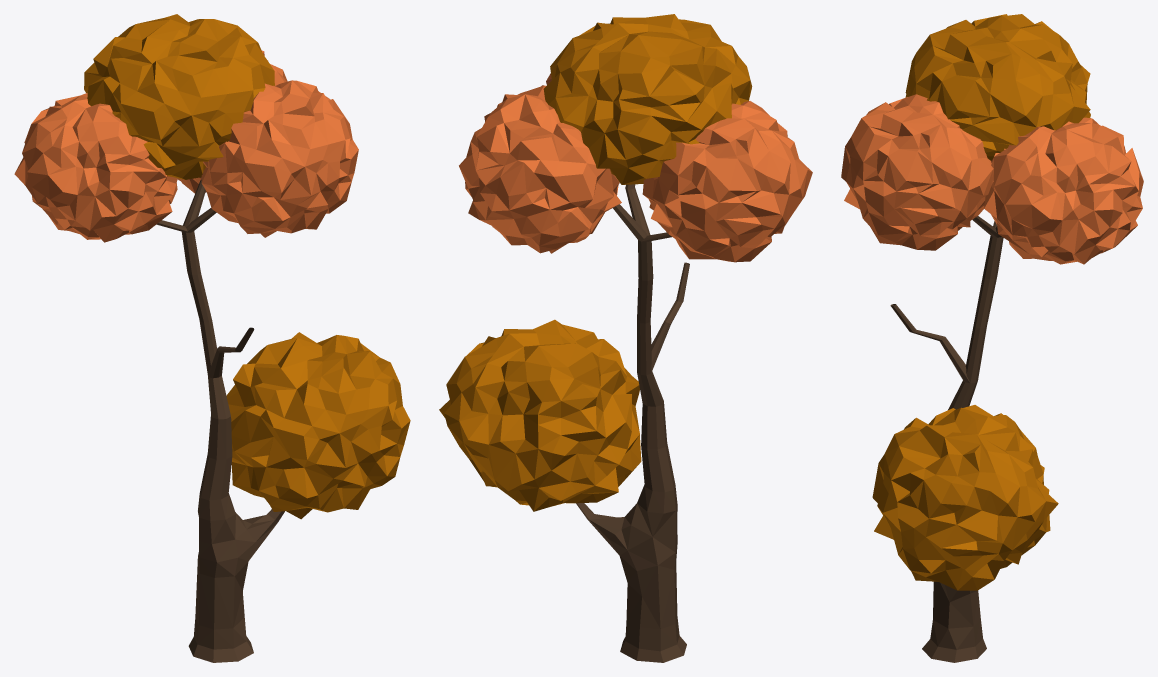
Rendered from fall tree 7.fbx.
The picture shows the model from 3 angles, left to right: view 1: azimuth 30°, elevation 25°; view 2: azimuth 150°, elevation 25°; view 3: azimuth 270°, elevation 25°; orthographic projection. The views are drawn at different scales.
Parts seen in each view (by area): view 1: LowPoly Tree .010; view 2: LowPoly Tree .010; view 3: LowPoly Tree .010.
Part boxes in pixels (x1,y1,x2,y2): LowPoly Tree .010: (14, 14, 410, 662); LowPoly Tree .010: (439, 14, 812, 662); LowPoly Tree .010: (841, 14, 1143, 662).
Size of the model in its own units: 142 by 236 by 106.
